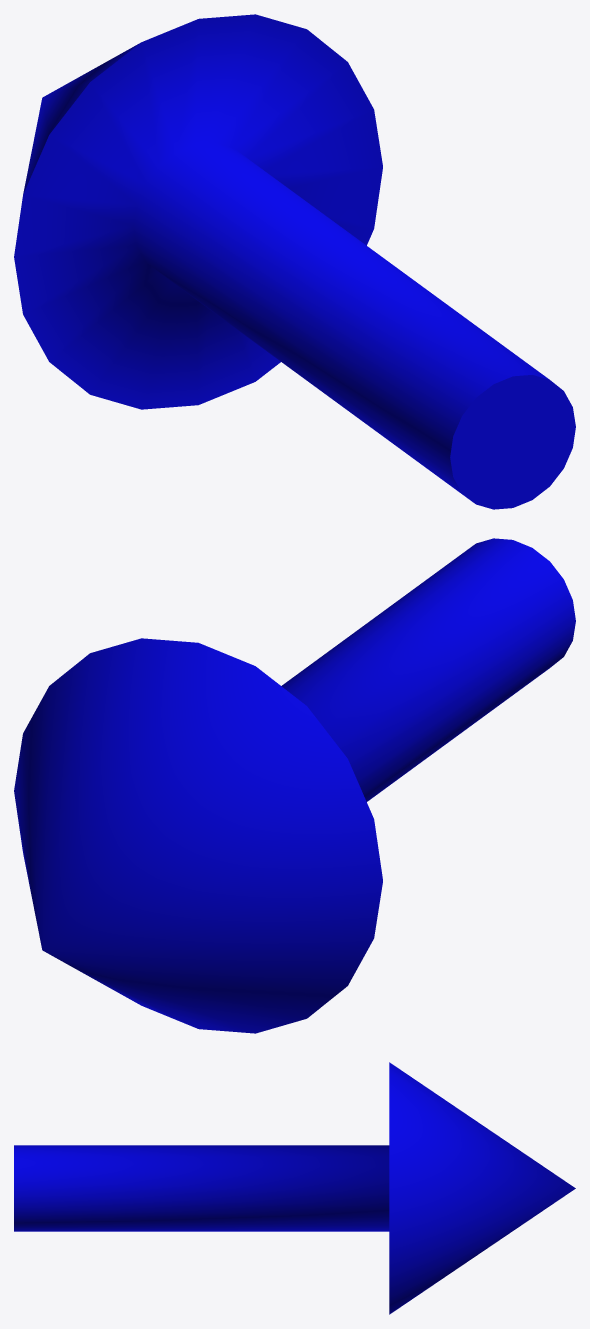
Rendered from ForwardArrow.fbx.
3 renders of one model, top to bottom at view 1: azimuth 30°, elevation 25°; view 2: azimuth 150°, elevation 25°; view 3: azimuth 270°, elevation 25°, orthographic. The views are drawn at different scales.
Visible parts, largest first — view 1: pCylinder1; view 2: pCylinder1; view 3: pCylinder1.
Part boxes in pixels (x1,y1,x2,y2): pCylinder1: (14, 14, 575, 509); pCylinder1: (14, 538, 575, 1033); pCylinder1: (14, 1062, 575, 1314).
Size of the model in its own units: 0.7482 by 0.7482 by 1.65.
